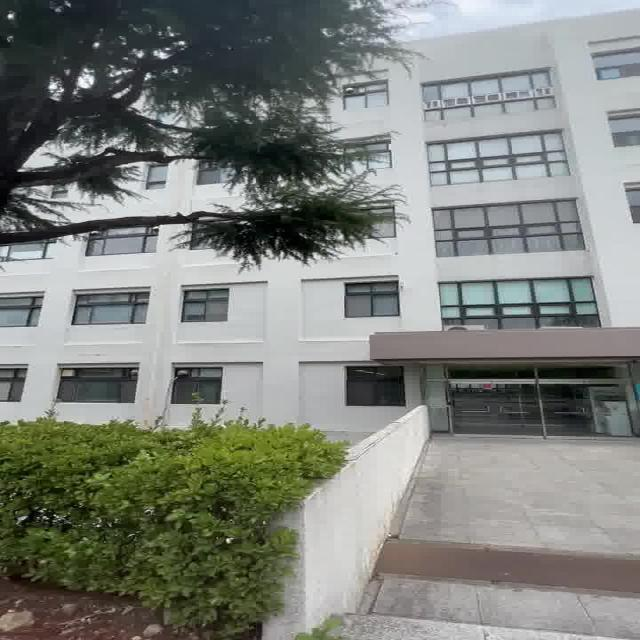building: (386, 64, 640, 435)
